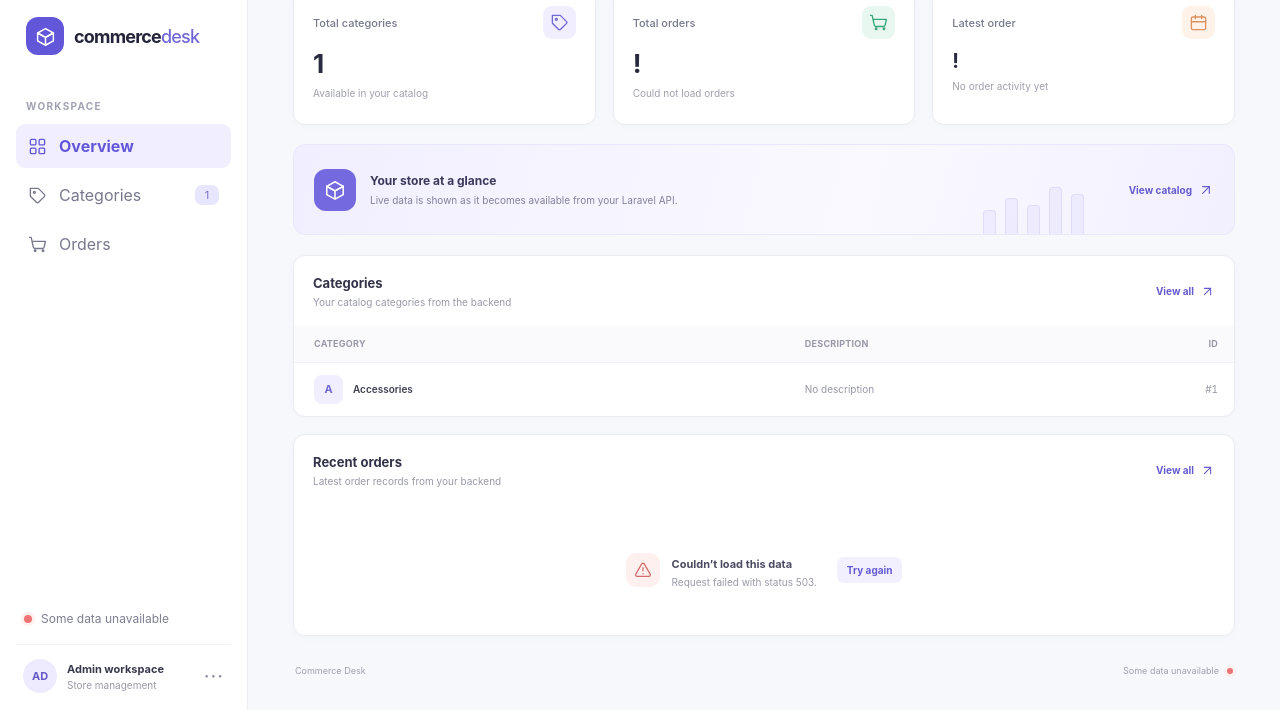
Test: reports partial API failure and retries the failed resource
(page scrolled)
Expected: the text "Request failed with status 503." is shown, [672, 576, 817, 588]
Expected: the message "Some data unavailable" is shown, [1123, 665, 1233, 676]
Step 1. Click the button "Try again" → click(870, 570), box [837, 557, 902, 583]
(page scrolled)
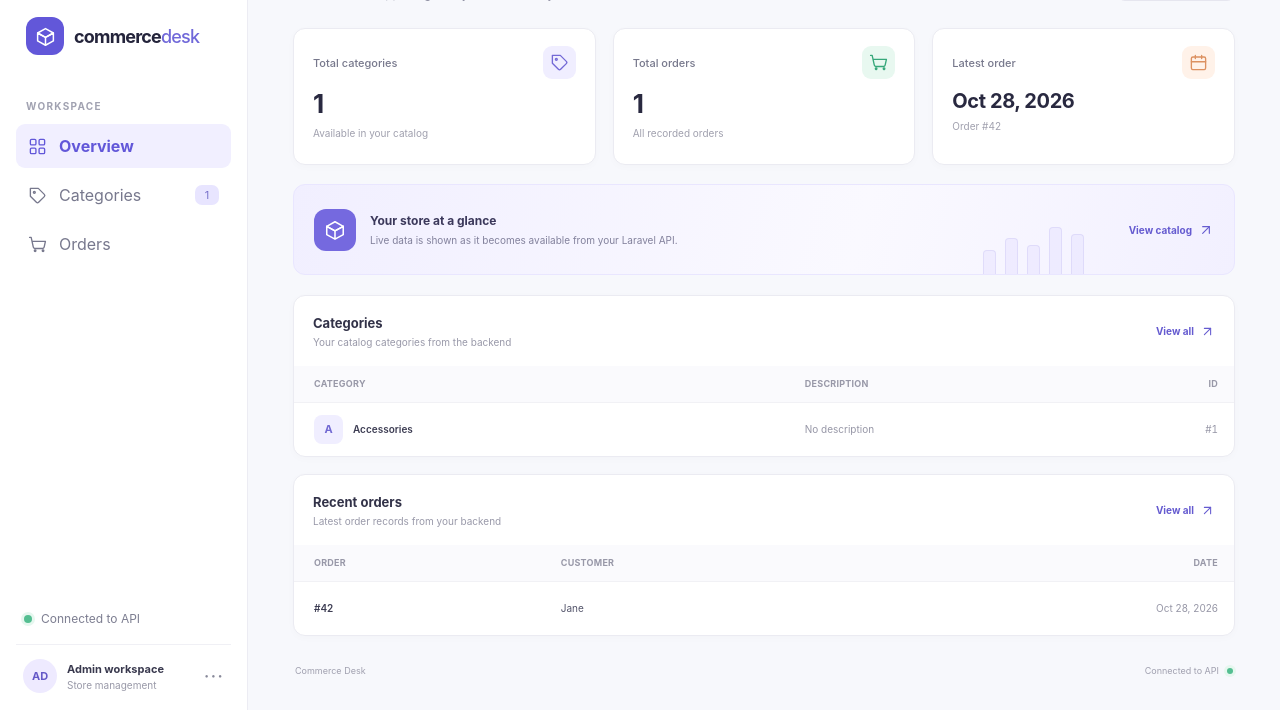
Expected: the text "Jane" is shown, [560, 581, 838, 635]
Expected: the message reads "Connected to API", [1145, 665, 1219, 676]
